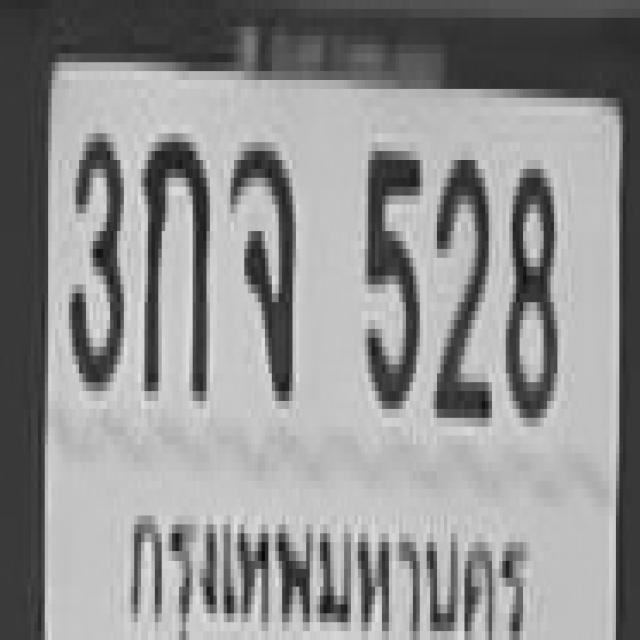-: (141, 125, 207, 391), (227, 133, 293, 391)
2: (430, 147, 489, 413)
3: (66, 125, 120, 382)
5: (361, 142, 420, 400)
8: (502, 160, 554, 409)
BKK: (118, 477, 530, 640)
